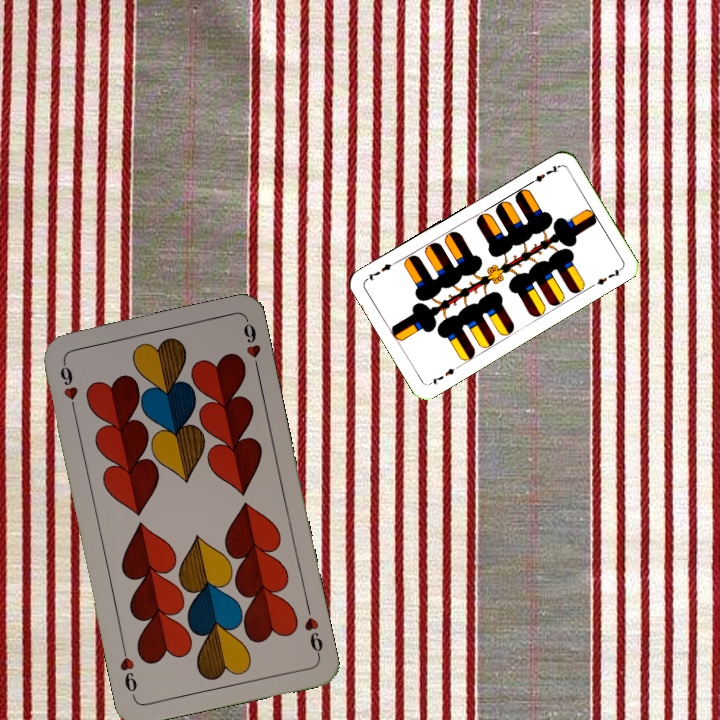E7: (425, 362, 462, 388), (525, 161, 561, 187)
H9: (300, 602, 326, 660), (56, 357, 81, 416)
